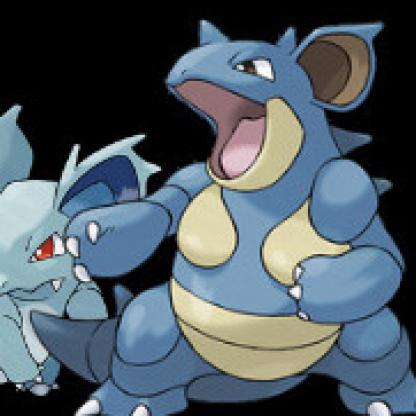Nidoqueen: (59, 24, 415, 413)
